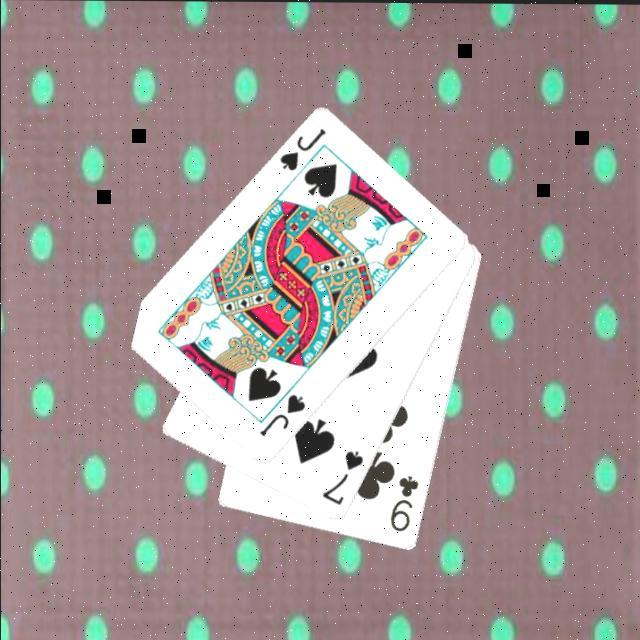7S: (317, 449, 365, 511)
9C: (385, 473, 420, 538)
JS: (275, 126, 327, 176), (254, 392, 306, 441)
